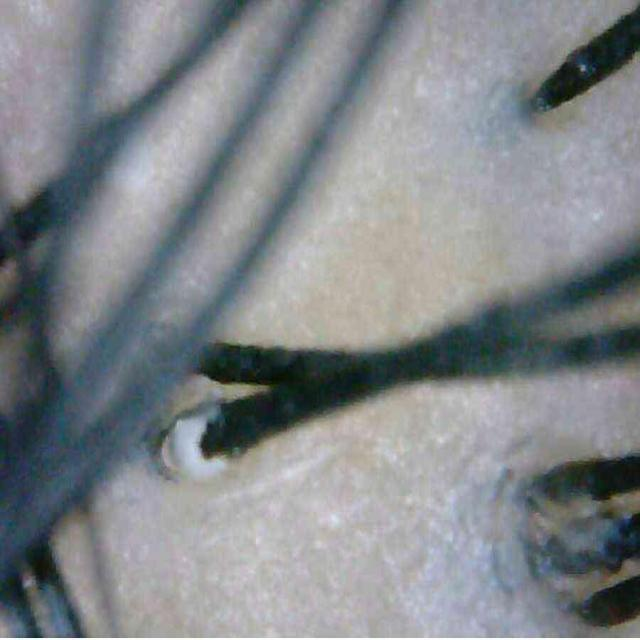d: (160, 405, 226, 480)
